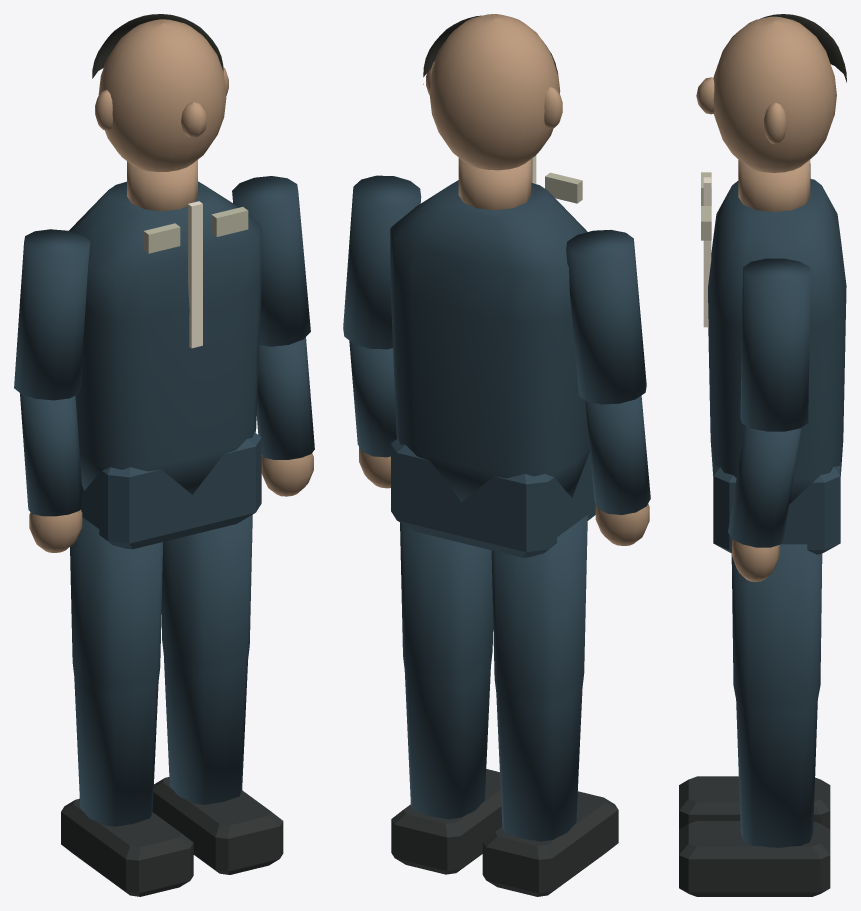
The model's file is commuter.glb.
3 views of the same model, side by side, from view 1: azimuth 30°, elevation 25°; view 2: azimuth 150°, elevation 25°; view 3: azimuth 270°, elevation 25° (orthographic). The views are drawn at different scales.
Parts seen in each view (by area): view 1: body.001, leg-left.001, leg-right.001, arm-left.001, arm-right.001; view 2: body.001, leg-left.001, leg-right.001, arm-left.001, arm-right.001; view 3: body.001, leg-right.001, arm-right.001, leg-left.001.
Part boxes in pixels (x1,y1,x2,y2): body.001: (69,14,262,549); leg-left.001: (61,517,193,896); leg-right.001: (152,515,283,874); arm-left.001: (14,229,90,552); arm-right.001: (232,176,314,496); body.001: (390,14,595,557); leg-left.001: (482,515,618,896); leg-right.001: (391,522,502,874); arm-left.001: (566,230,650,545); arm-right.001: (343,175,421,488); body.001: (696,14,846,554); leg-right.001: (679,544,830,896); arm-right.001: (728,258,810,581); leg-left.001: (679,776,830,829).
Bounding box in the file's own units: 0.637 × 1.75 × 0.3163.
